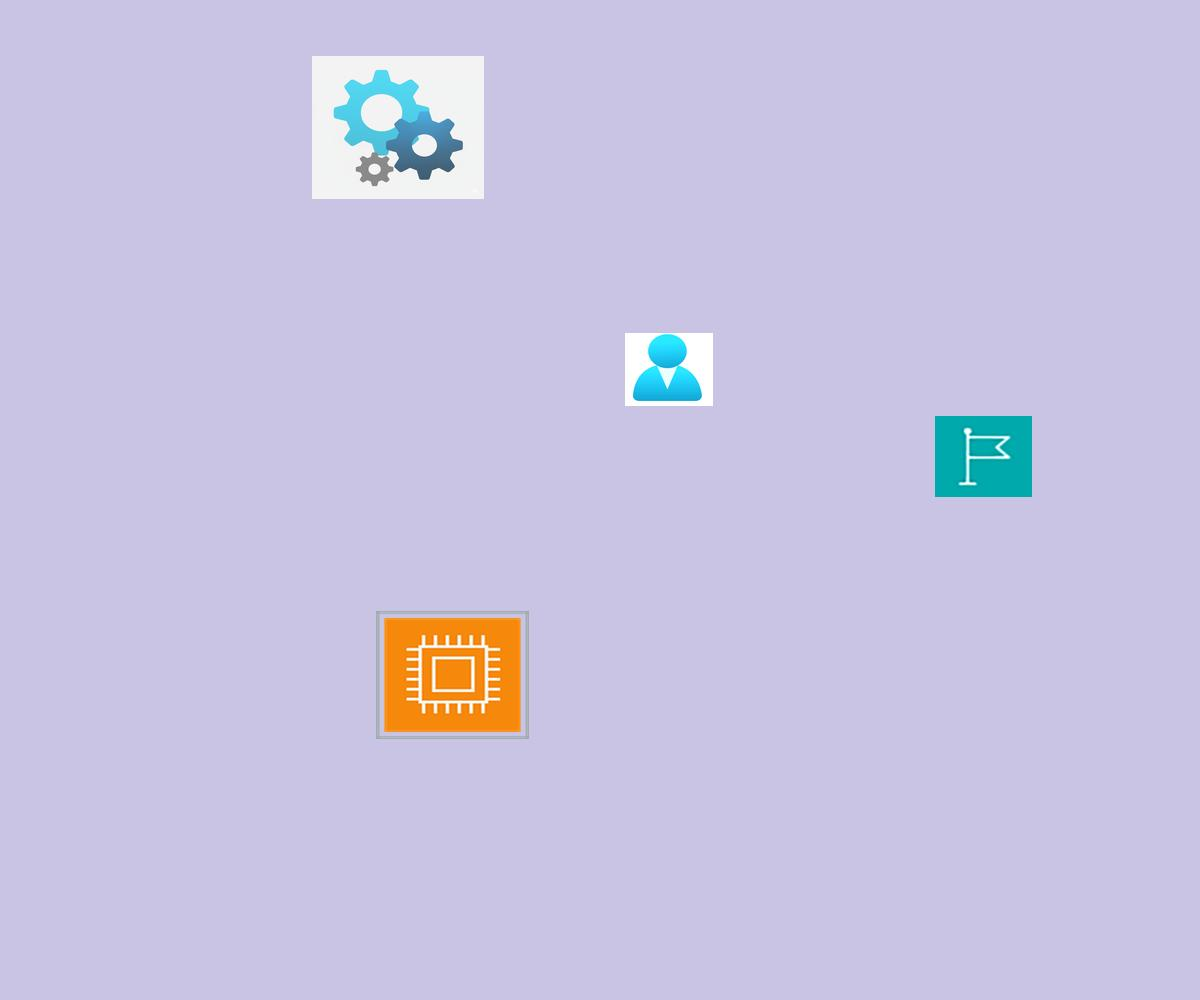AWS-Category_Compute: (376, 611, 529, 739)
AWS-Region: (935, 416, 1032, 497)
Azure_api: (312, 56, 484, 199)
Azure_users: (625, 333, 713, 406)
